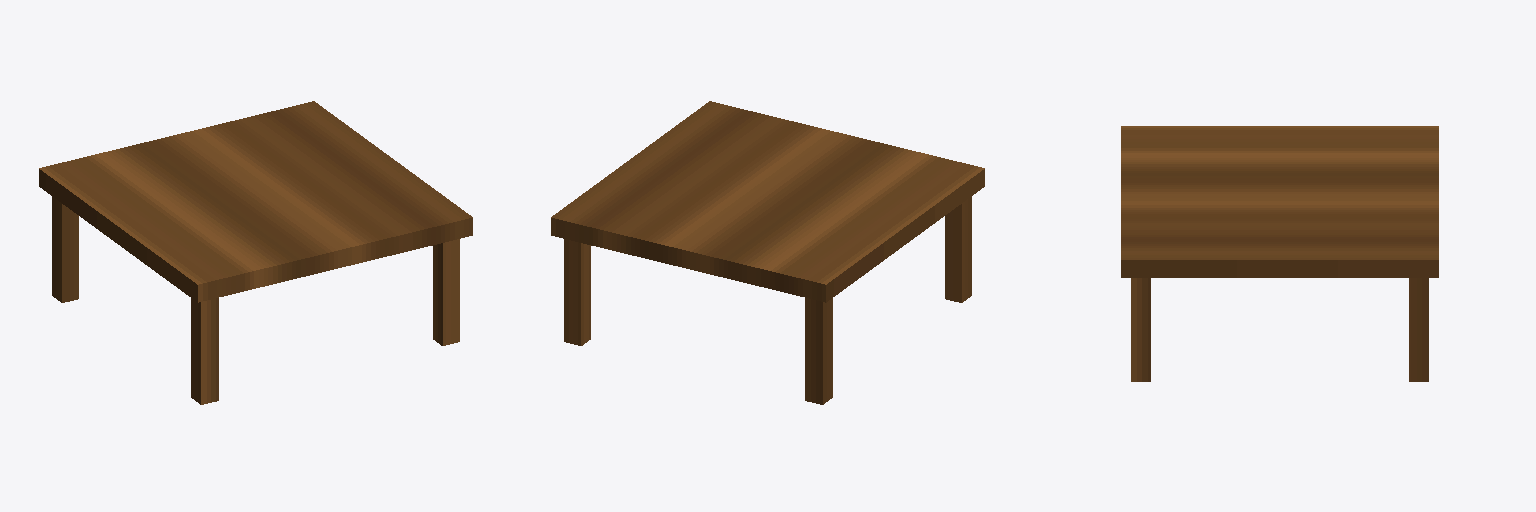
3 renders of one model, left to right at view 1: azimuth 30°, elevation 25°; view 2: azimuth 150°, elevation 25°; view 3: azimuth 270°, elevation 25°, orthographic.
Parts seen in each view (by area): view 1: legs; view 2: legs; view 3: legs.
Boxes of the visible parts, x1,y1,x2,y2 form: legs: [39, 101, 472, 404]; legs: [551, 101, 984, 404]; legs: [1121, 126, 1438, 381].
Size of the model in its own units: 1 by 0.4375 by 1.
1 materials, 1 textured.